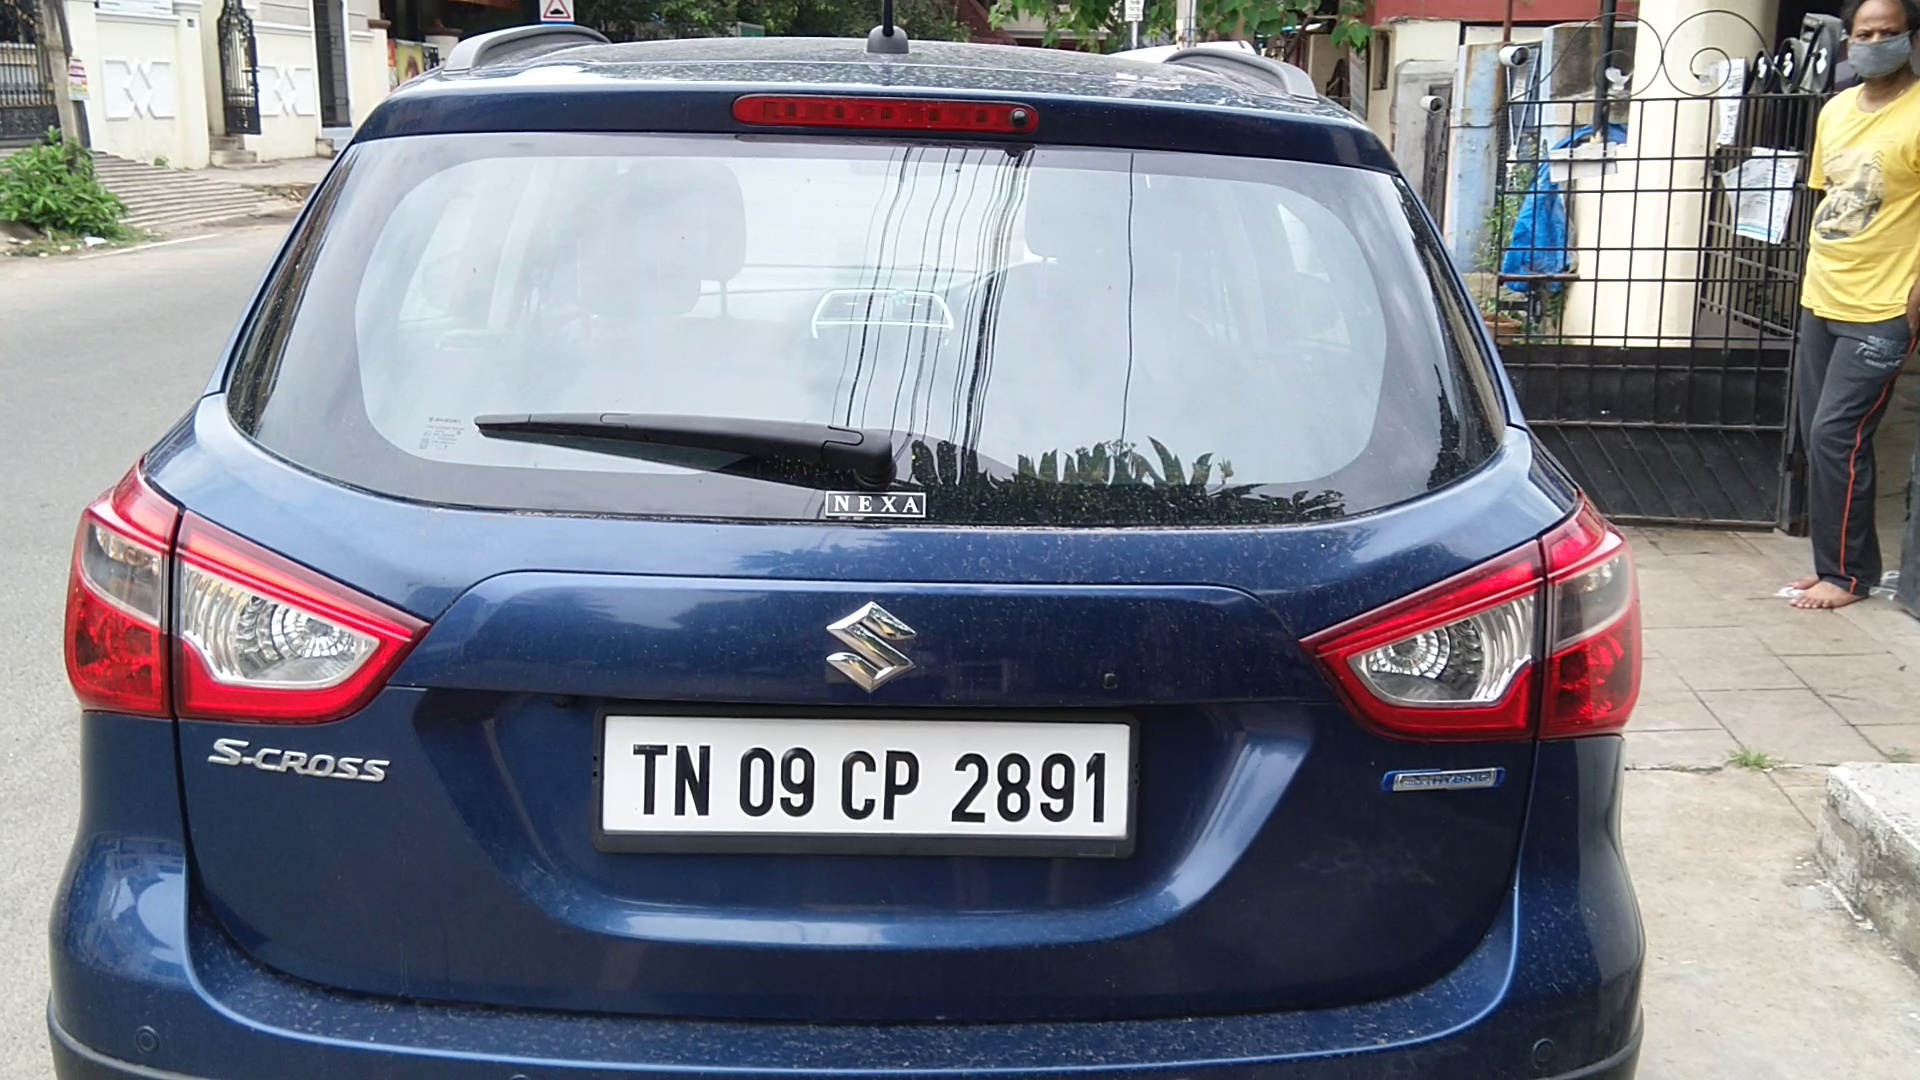rear_camera: (1005, 102, 1038, 137)
shvs: (1370, 752, 1516, 811)
